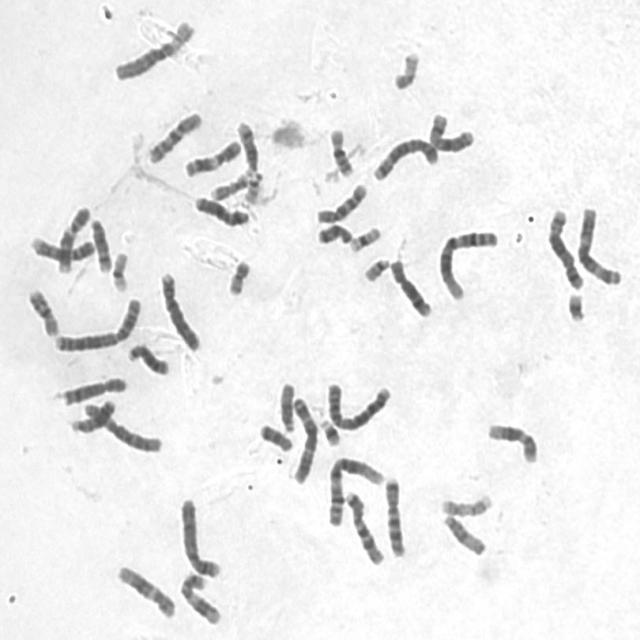A1: (433, 224, 501, 302), (322, 450, 386, 528)
A2: (49, 292, 143, 354), (321, 375, 393, 433)
A3: (572, 201, 623, 287), (286, 391, 319, 485)
B4: (155, 264, 203, 352), (175, 491, 222, 579)
B5: (542, 202, 586, 290), (367, 131, 441, 182)
C10: (142, 106, 205, 165), (311, 178, 369, 225)
C11: (174, 567, 223, 627), (180, 134, 244, 179)
C12: (111, 559, 177, 620), (482, 416, 540, 464)
C6: (108, 14, 198, 82), (78, 395, 164, 455)
C7: (340, 484, 386, 566), (379, 471, 408, 558)
C8: (385, 253, 434, 319), (55, 371, 129, 406)
C9: (53, 199, 93, 274), (25, 229, 97, 263)
D13: (123, 338, 171, 377), (70, 399, 116, 437)
D14: (85, 212, 114, 273), (232, 116, 260, 176)
D15: (438, 508, 489, 557), (274, 376, 298, 436)
E16: (22, 282, 61, 338), (324, 121, 356, 178)
E17: (435, 488, 495, 518), (206, 166, 251, 202)
E18: (254, 418, 296, 453), (312, 218, 356, 246)
F19: (345, 221, 383, 254), (106, 246, 130, 294)
F20: (388, 45, 422, 92), (223, 253, 253, 297)
G21: (315, 412, 342, 447), (562, 287, 588, 323)
G22: (359, 251, 391, 284), (243, 169, 260, 205)
X: (424, 106, 476, 154), (189, 190, 251, 228)
